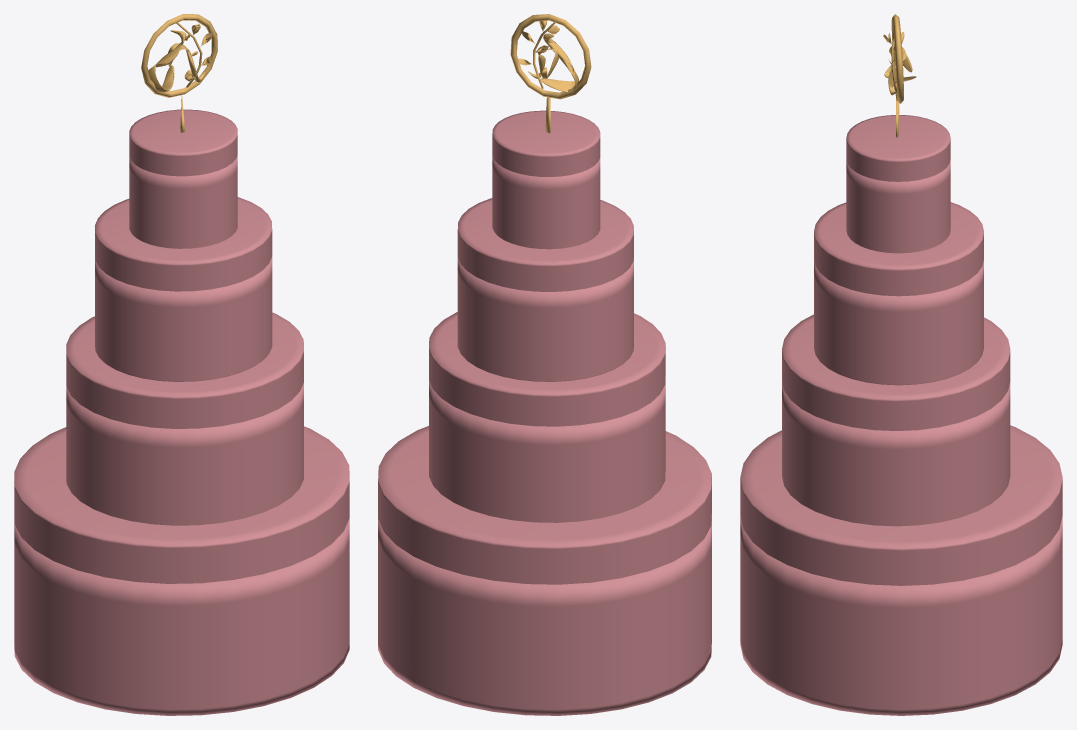
Rendered from 4-tier-blush-none-ring.glb.
The picture shows the model from 3 angles, left to right: view 1: azimuth 30°, elevation 25°; view 2: azimuth 150°, elevation 25°; view 3: azimuth 270°, elevation 25°; orthographic projection.
Parts seen in each view (by area): view 1: 3.001, 3, 2, 1, Cylinder.006; view 2: 3.001, 3, 2, 1, Cylinder.006; view 3: 3.001, 3, 2, 1, Cylinder.006.
Part boxes in pixels (x1,y1,x2,y2): 3.001: (14,426,349,715); 3: (66,312,303,525); 2: (95,197,272,381); 1: (129,109,237,248); Cylinder.006: (141,14,217,132); 3.001: (378,426,711,715); 3: (429,312,665,522); 2: (457,198,633,381); 1: (492,110,600,249); Cylinder.006: (510,14,591,132); 3.001: (740,425,1062,715); 3: (782,314,1010,526); 2: (814,202,983,385); 1: (846,115,950,253); Cylinder.006: (883,14,916,137).
Bounding box in the file's own units: 4.43 × 9.13 × 4.27.
